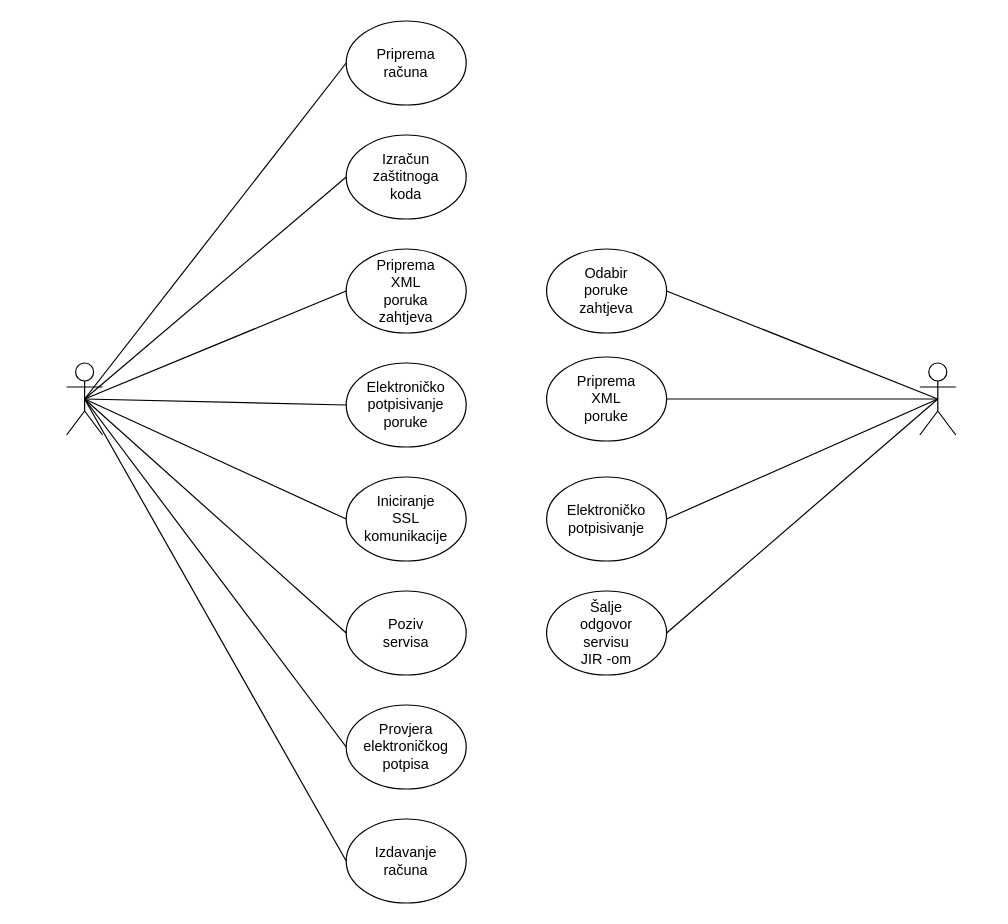
The diagram is 1008 pixels wide and 924 high, and some of its shapes have lost their labels. Here are the shapes that lost their labels. From the top down, the centre of each, then its label:
point 84,398: Proces fisikalizacije/ naplatni uređaj
point 937,398: Sustav porezne uprave
